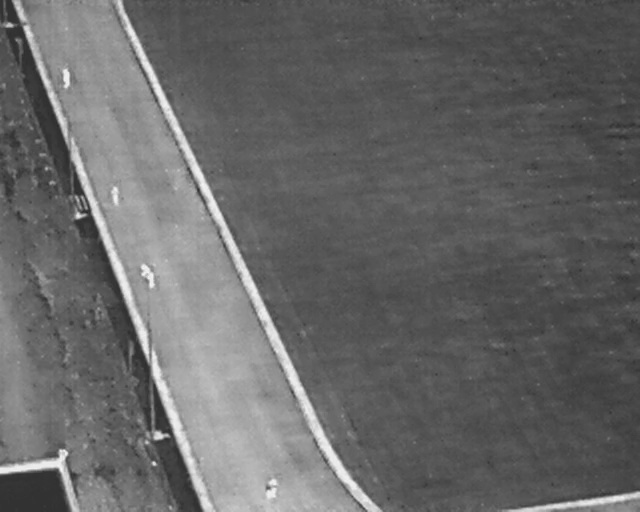Person: (264, 474, 280, 502), (145, 269, 157, 291), (138, 261, 151, 281), (60, 68, 72, 89), (111, 185, 121, 207)
